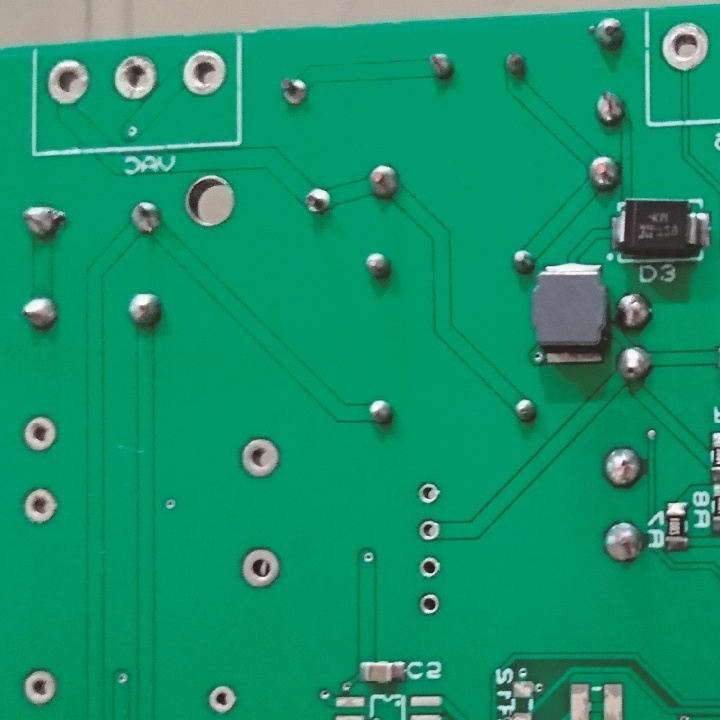F: (656, 22, 714, 78), (177, 46, 230, 95), (110, 52, 161, 102), (234, 544, 284, 591), (44, 58, 90, 106), (237, 436, 285, 481), (19, 485, 63, 526), (17, 415, 61, 455), (21, 666, 58, 705), (204, 683, 241, 715), (416, 589, 442, 619), (414, 481, 443, 507), (416, 555, 442, 581), (416, 519, 443, 542)
